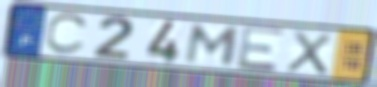2: (91, 15, 138, 63)
4: (143, 19, 183, 66)
C: (43, 13, 93, 57)
E: (235, 24, 288, 74)
M: (182, 22, 244, 67)
X: (283, 28, 334, 77)
